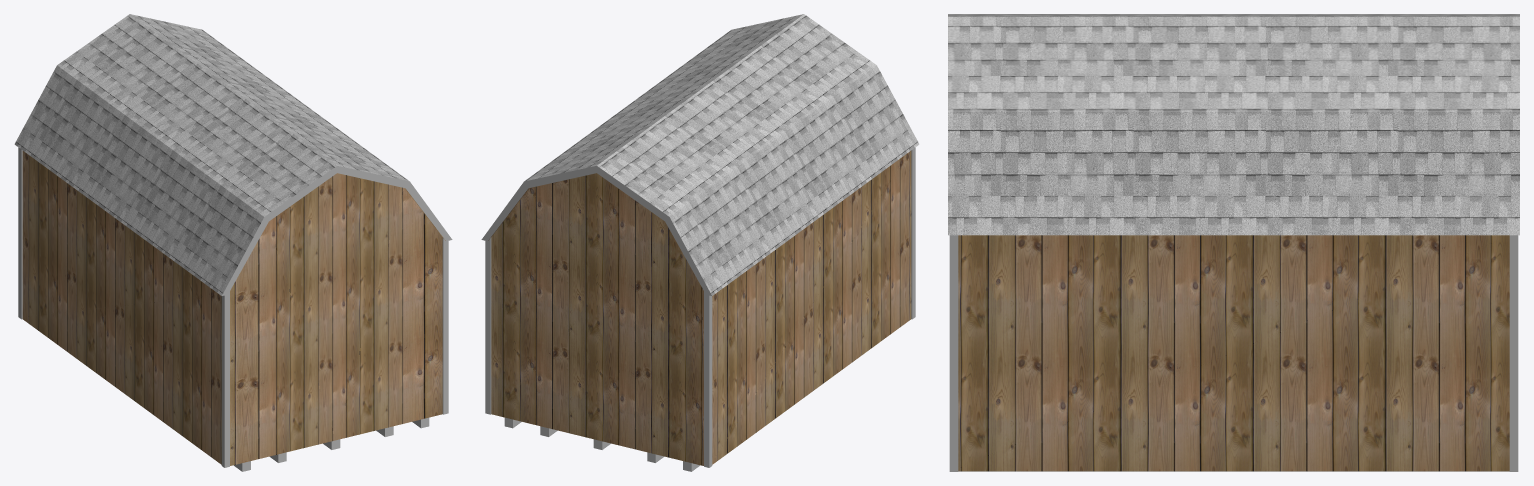
The model's file is Dutch Barn_8x14.obj.
3 views of the same model, side by side, from view 1: azimuth 30°, elevation 25°; view 2: azimuth 150°, elevation 25°; view 3: azimuth 270°, elevation 25° (orthographic). The views are drawn at different scales.
Visible parts, largest first — view 1: Shed, Roof, Trim, Sides, Floor; view 2: Shed, Roof, Trim, Sides, Floor; view 3: Shed, Roof, Trim.
Part boxes in pixels (x1,y1,x2,y2): Shed: (22, 151, 445, 465); Roof: (14, 14, 408, 295); Trim: (18, 147, 448, 467); Sides: (222, 166, 452, 295); Floor: (234, 417, 429, 471); Shed: (488, 151, 911, 465); Roof: (525, 14, 919, 295); Trim: (485, 147, 915, 467); Sides: (481, 166, 711, 295); Floor: (504, 417, 699, 471); Shed: (958, 235, 1509, 471); Roof: (948, 14, 1519, 235); Trim: (949, 235, 1518, 471).
Size of the model in its own units: 2.78 by 3.27 by 4.32.
